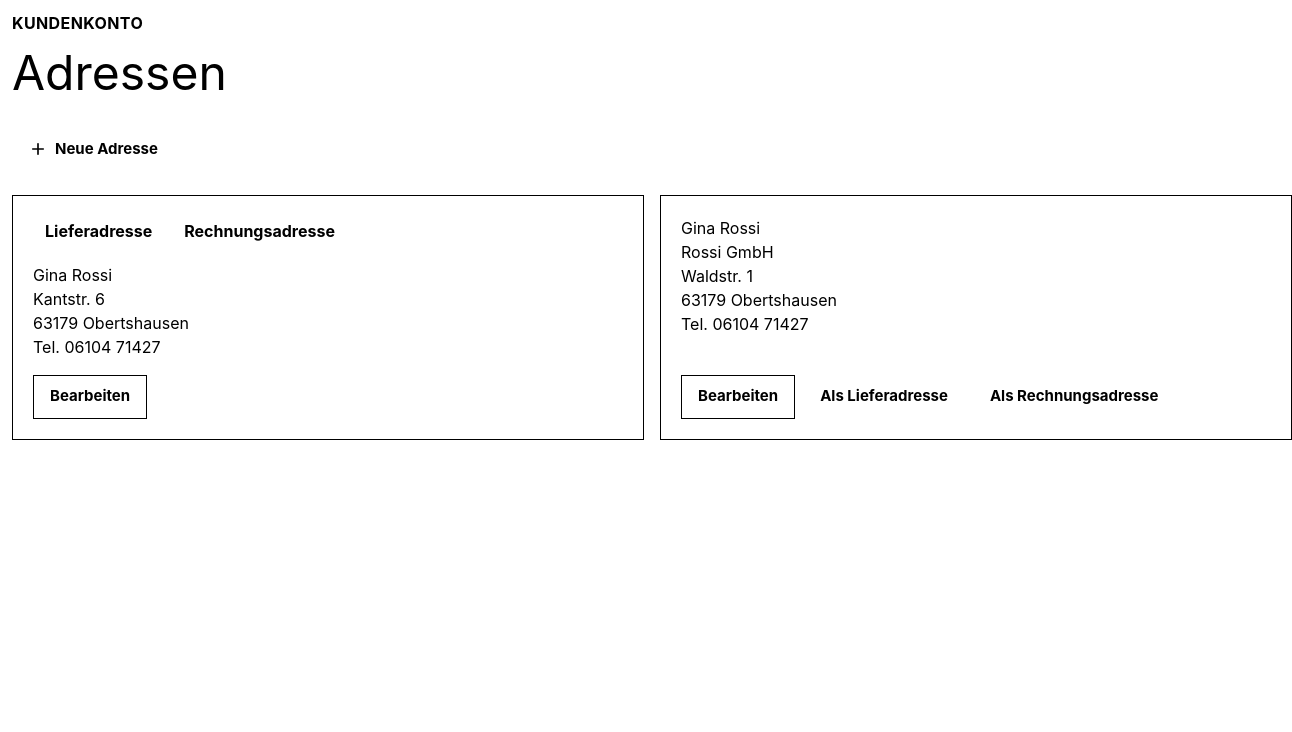
Scenario: account pages with a preset (#445) › lists the addresses with their use and named actions
Expected: the list item that starts with "Lieferadresse" is shown, [45,221,152,241]
Expected: the list item that starts with "Lieferadresse" shows "Rechnungsadresse", [184,221,335,241]
Click the button "Als Lieferadresse" at (884, 397), box [803,375,965,419]
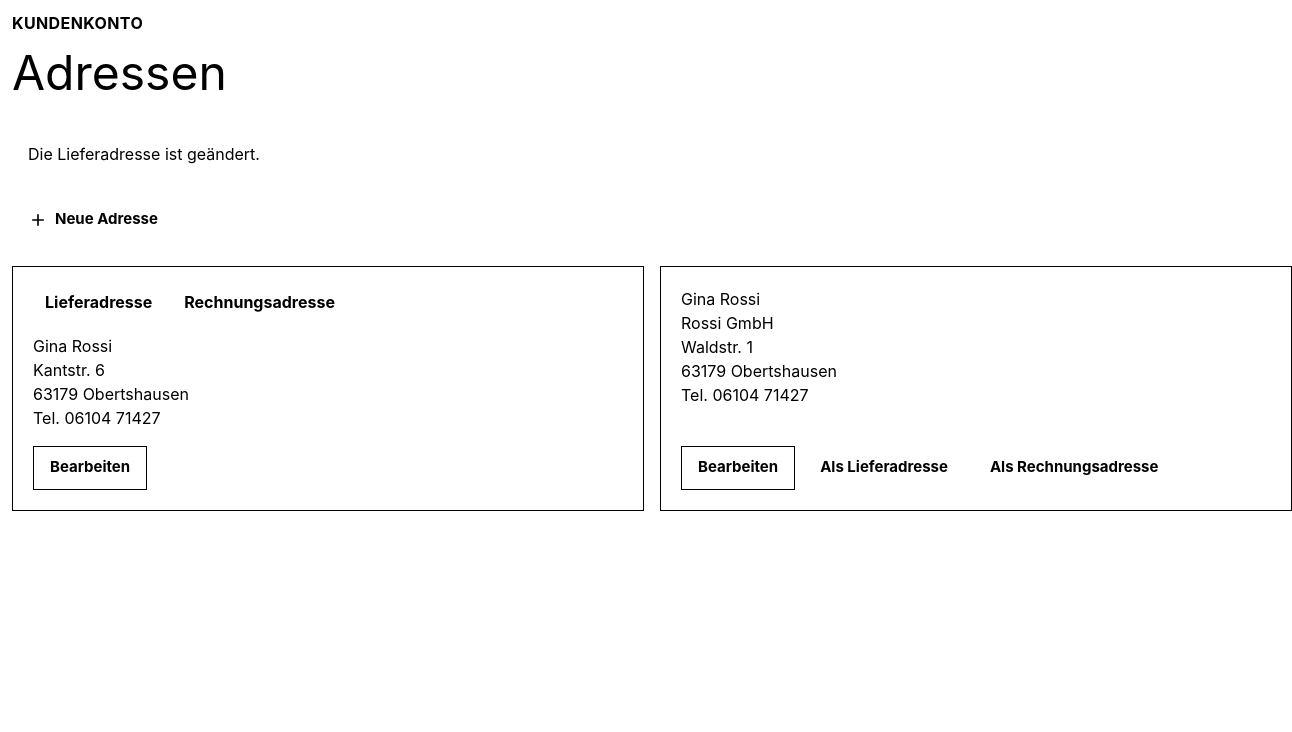
Expected: the message "Die Lieferadresse ist geändert." is shown, [28,144,260,164]
